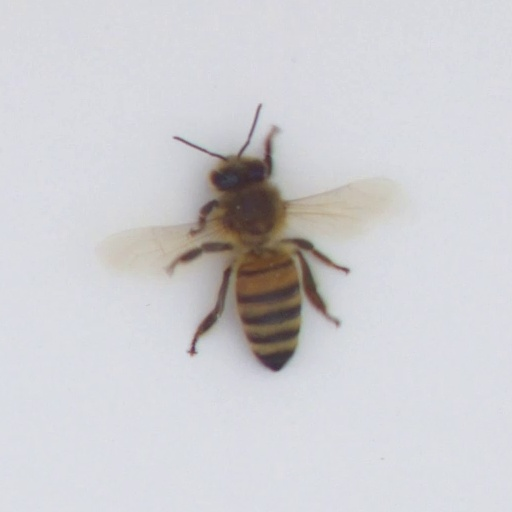Bee: (214, 155, 307, 370)
Thorax: (214, 184, 286, 248)
